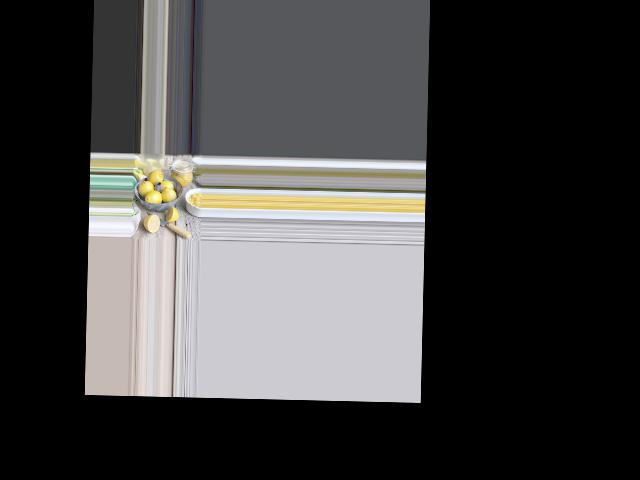lemon: (162, 187, 176, 203)
